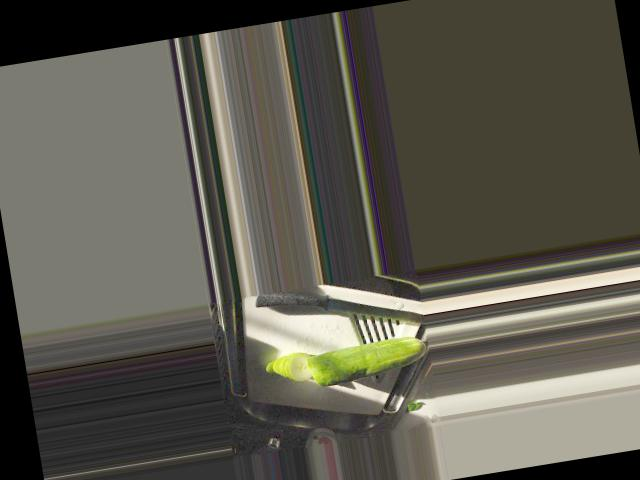cucumber: (304, 333, 429, 388)
